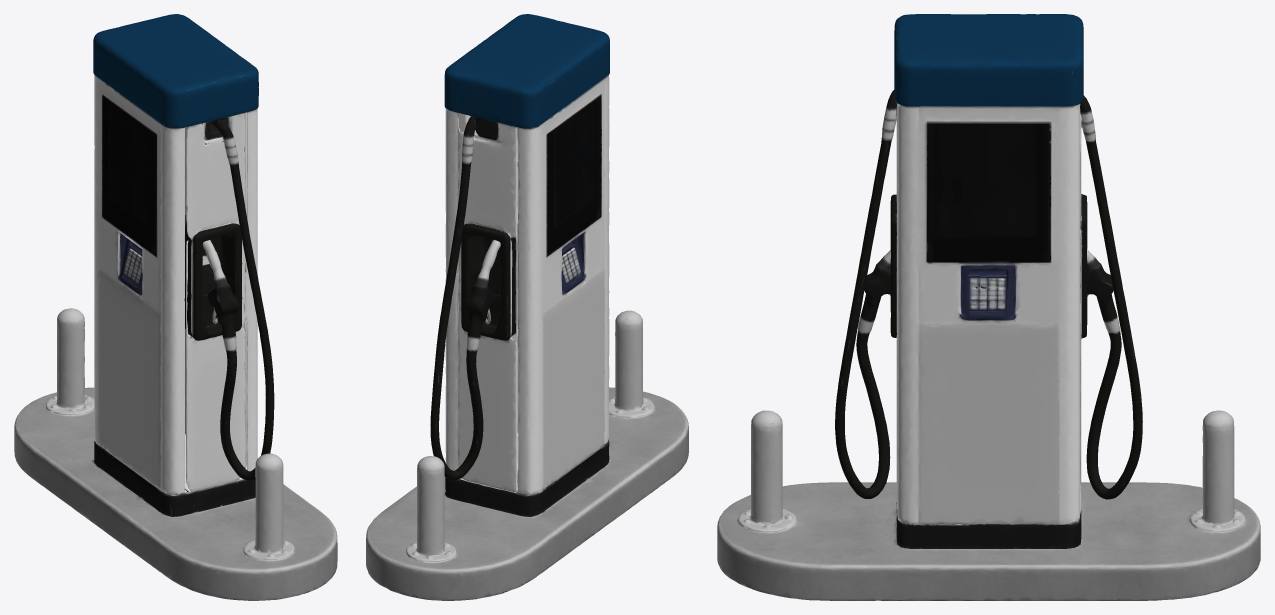
Rendered from pump.glb.
3 renders of one model, left to right at view 1: azimuth 30°, elevation 25°; view 2: azimuth 150°, elevation 25°; view 3: azimuth 270°, elevation 25°, orthographic. The views are drawn at different scales.
Visible parts, largest first — view 1: world; view 2: world; view 3: world.
Boxes of the visible parts, x1=… form: world: x1=14, y1=14, x2=337, y2=600; world: x1=366, y1=14, x2=688, y2=600; world: x1=717, y1=14, x2=1260, y2=600.
Size of the model in its own units: 0.3518 by 1 by 0.9468.
1 material, 1 textured.
